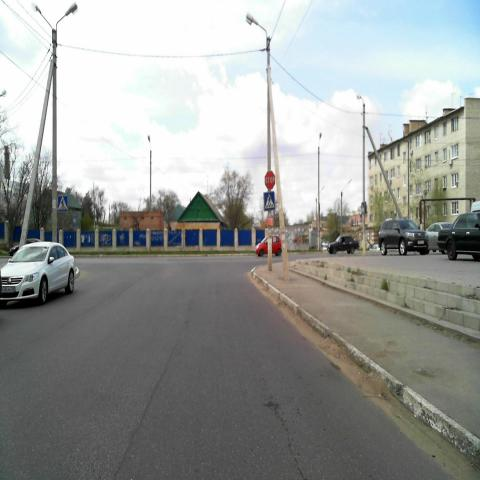2_5: (265, 171, 275, 190)
